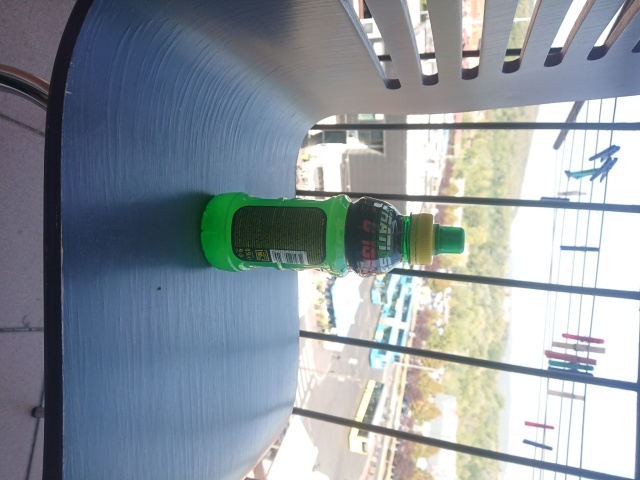Vindi Iso Sport Lemon-Grapefruit 500mL: (198, 188, 467, 279)
